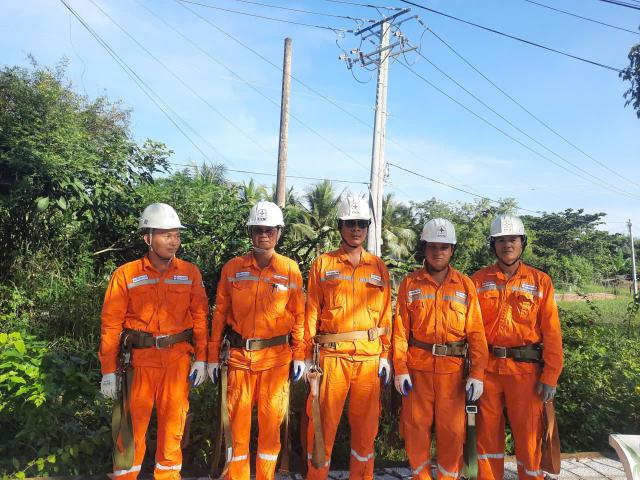gloves: (91, 368, 129, 402), (388, 361, 414, 399), (459, 371, 488, 405), (299, 353, 324, 391), (367, 361, 393, 390), (204, 358, 225, 389), (179, 362, 204, 388), (534, 376, 559, 401), (282, 359, 299, 388)
harness: (399, 326, 466, 366), (318, 314, 386, 351), (216, 322, 299, 352), (480, 331, 549, 364), (121, 321, 198, 350)
helmet: (124, 185, 200, 236), (402, 209, 461, 245), (235, 198, 287, 230), (337, 188, 374, 225), (483, 211, 529, 240)
